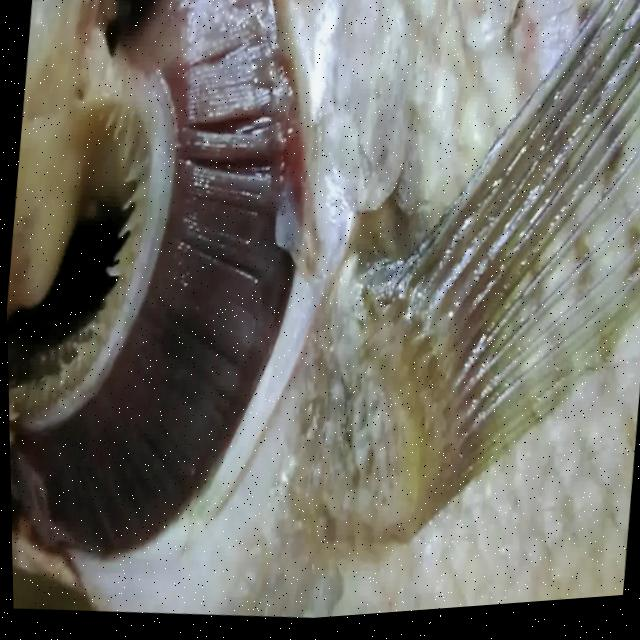Non-Fresh: (0, 0, 332, 554)
